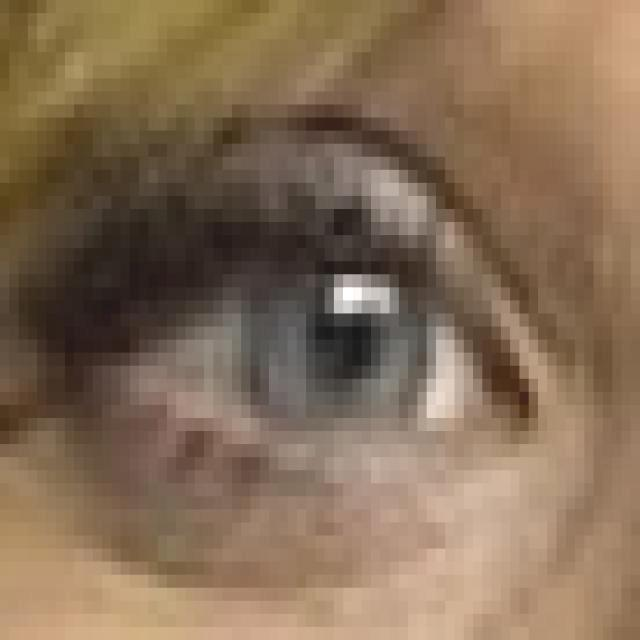Normal: (18, 113, 588, 481)
